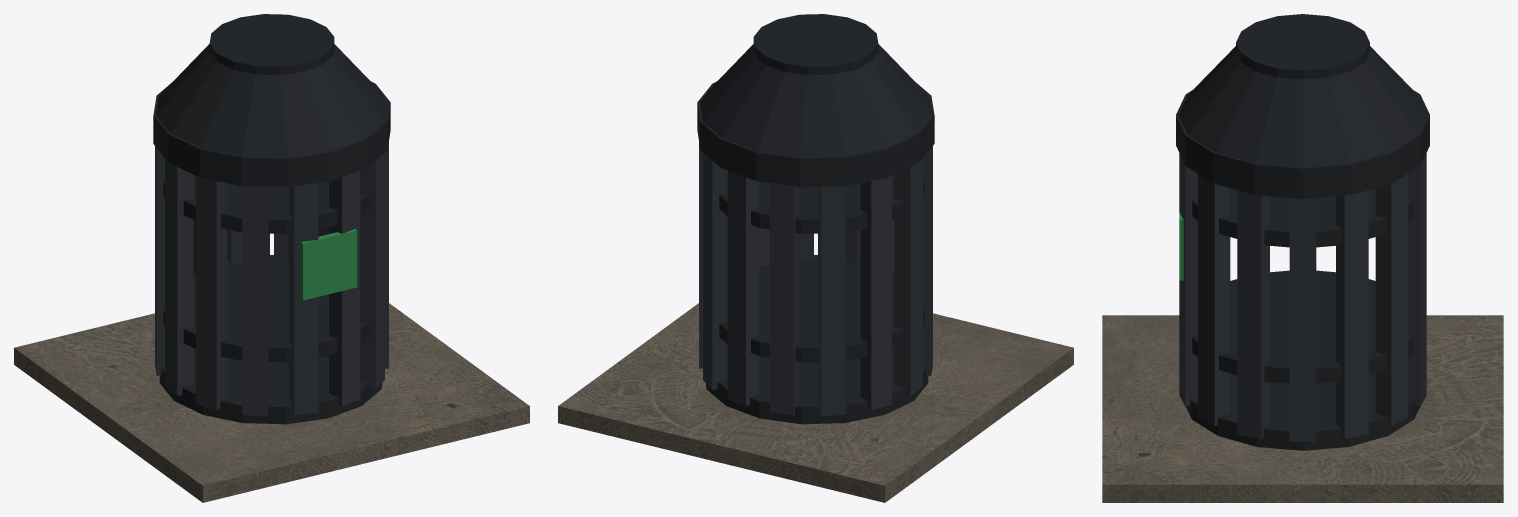
Rendered from OT_TrashCan.glb.
The picture shows the model from 3 angles, left to right: view 1: azimuth 30°, elevation 25°; view 2: azimuth 150°, elevation 25°; view 3: azimuth 270°, elevation 25°; orthographic projection. The views are drawn at different scales.
Parts seen in each view (by area): view 1: OT_TrashCan_CanBlack__1d2024, OT_TrashCan_Sidewalk, OT_TrashCan_CanSlat__2f3338, OT_TrashCan_Recycle__2f8a4a; view 2: OT_TrashCan_CanBlack__1d2024, OT_TrashCan_CanSlat__2f3338, OT_TrashCan_Sidewalk; view 3: OT_TrashCan_CanBlack__1d2024, OT_TrashCan_CanSlat__2f3338, OT_TrashCan_Sidewalk.
Part boxes in pixels (left/top/right/bottom): OT_TrashCan_CanBlack__1d2024: left=153, top=14, right=390, bottom=424; OT_TrashCan_Sidewalk: left=14, top=303, right=529, bottom=502; OT_TrashCan_CanSlat__2f3338: left=155, top=142, right=388, bottom=416; OT_TrashCan_Recycle__2f8a4a: left=301, top=229, right=357, bottom=300; OT_TrashCan_CanBlack__1d2024: left=697, top=14, right=934, bottom=424; OT_TrashCan_CanSlat__2f3338: left=699, top=142, right=932, bottom=416; OT_TrashCan_Sidewalk: left=558, top=303, right=1073, bottom=502; OT_TrashCan_CanBlack__1d2024: left=1176, top=14, right=1429, bottom=450; OT_TrashCan_CanSlat__2f3338: left=1179, top=153, right=1426, bottom=441; OT_TrashCan_Sidewalk: left=1102, top=315, right=1503, bottom=502.
Size of the model in its own units: 1.2 by 1.24 by 1.2.
4 materials, 1 textured.
